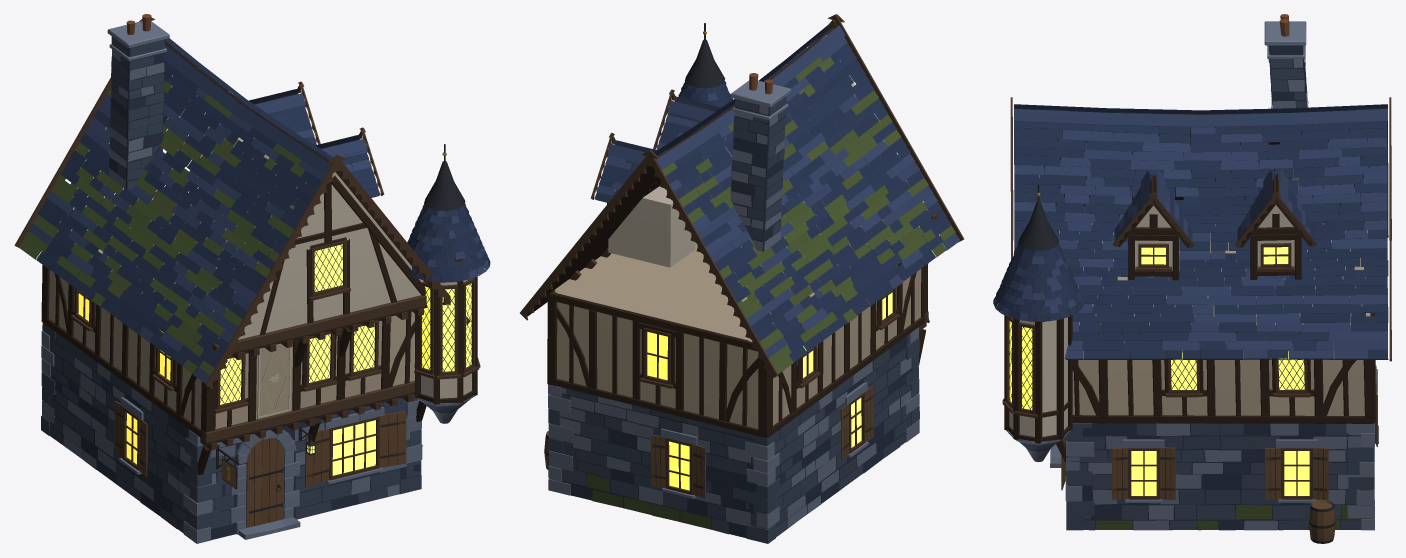
The model's file is house_02_b.glb.
The picture shows the model from 3 angles, left to right: view 1: azimuth 30°, elevation 25°; view 2: azimuth 150°, elevation 25°; view 3: azimuth 270°, elevation 25°; orthographic projection. The views are drawn at different scales.
Visible parts, largest first — view 1: isl_house_02_b; view 2: isl_house_02_b; view 3: isl_house_02_b.
Part boxes in pixels (bbox=[...]): isl_house_02_b: bbox=[14, 14, 490, 543]; isl_house_02_b: bbox=[520, 14, 963, 543]; isl_house_02_b: bbox=[993, 14, 1391, 543].
Size of the model in its own units: 7.88 by 11.17 by 9.39.
